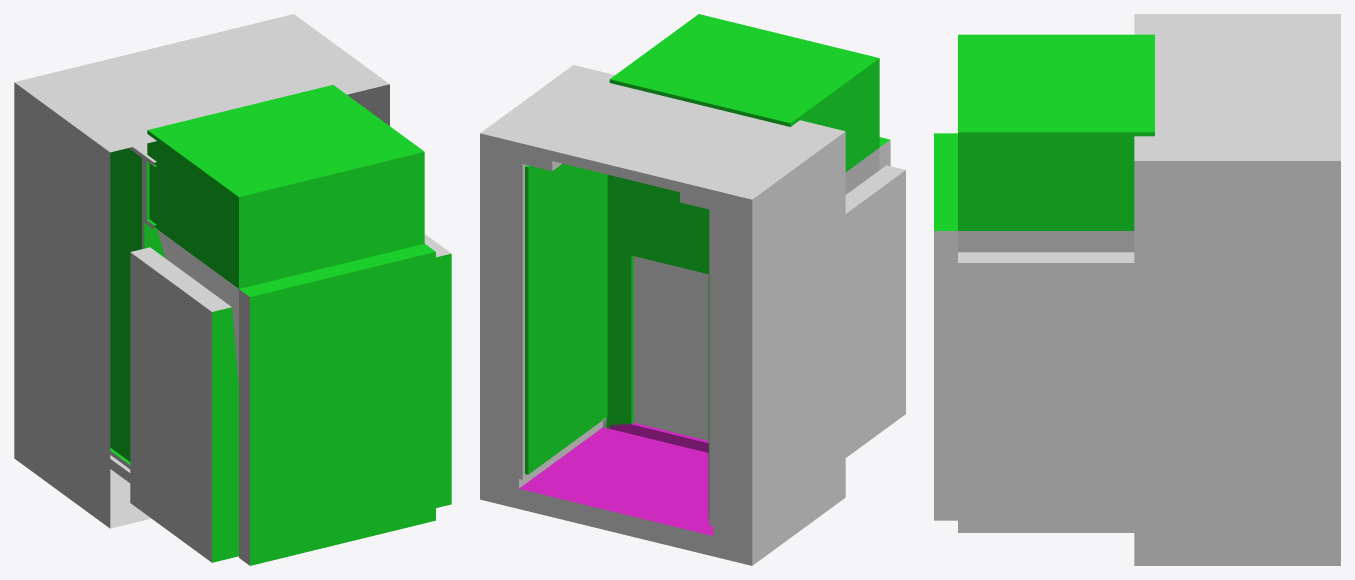
Rendered from elevator.fbx.
3 renders of one model, left to right at view 1: azimuth 30°, elevation 25°; view 2: azimuth 150°, elevation 25°; view 3: azimuth 270°, elevation 25°, orthographic. The views are drawn at different scales.
Parts seen in each view (by area): view 1: elevator end; view 2: elevator end, leftdoor, rightdoor; view 3: elevator end.
Part boxes in pixels (x1,y1,x2,y2): elevator end: [14, 14, 451, 565]; elevator end: [480, 14, 905, 565]; leftdoor: [633, 256, 702, 439]; rightdoor: [702, 273, 708, 440]; elevator end: [934, 14, 1340, 565].
Bounding box in the file's own units: 700 × 909 × 819.
